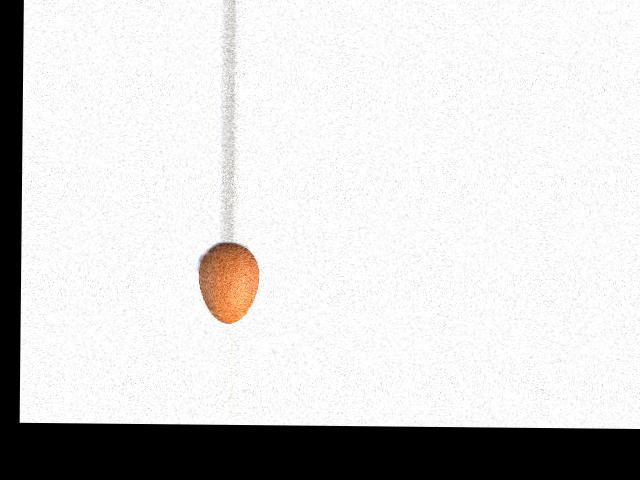egg: (198, 242, 259, 323)
